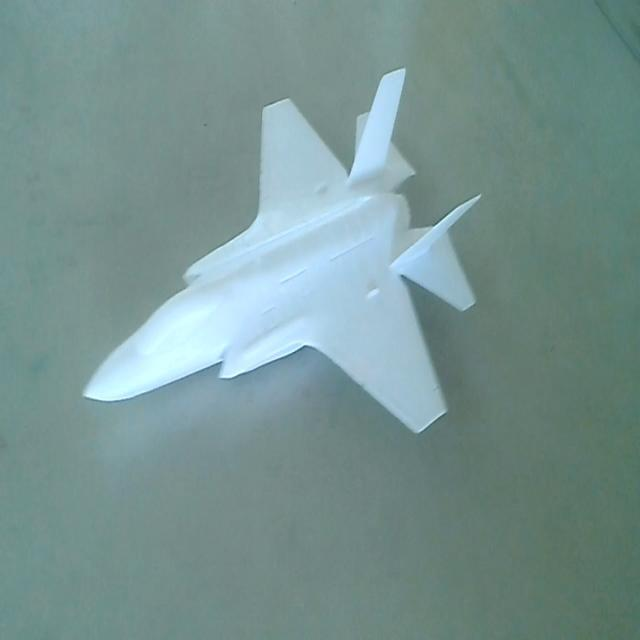Jet: (76, 57, 487, 452)
